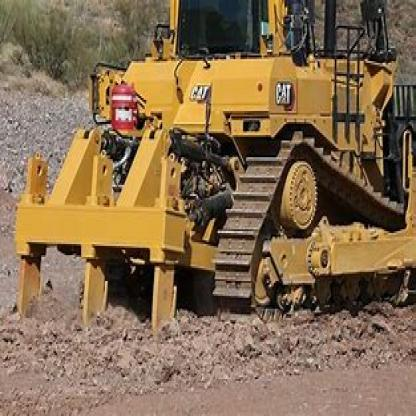bull_dozer/loader/grader: (5, 2, 415, 346)
